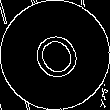O_SE: (23, 22, 87, 88)
